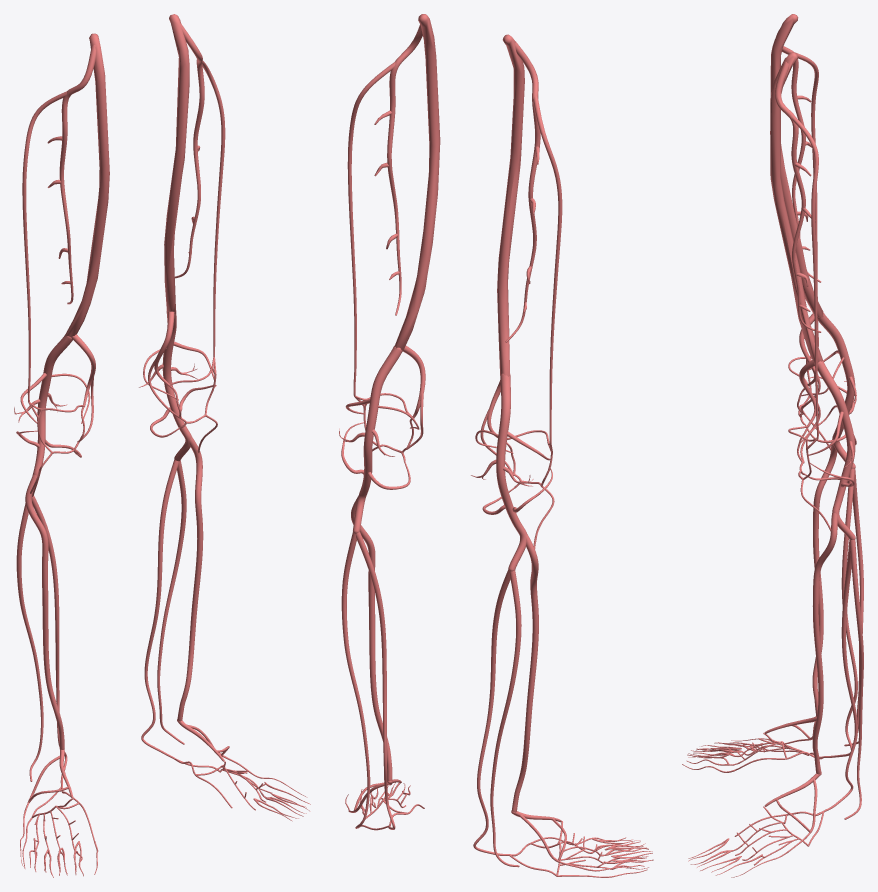
File: arteres-membre-inf.lo.glb
3 renders of one model, left to right at view 1: azimuth 30°, elevation 25°; view 2: azimuth 150°, elevation 25°; view 3: azimuth 270°, elevation 25°, orthographic. The views are drawn at different scales.
Visible parts, largest first — view 1: FJ2074, FJ2143, FJ2065, FJ2130, FJ2087, FJ2203, FJ2057, FJ2093, FJ2094, FJ2197, FJ2170, FJ2172 (+6 smaller); view 2: FJ2074, FJ2143, FJ2130, FJ2170, FJ2086, FJ2065, FJ2087, FJ2197, FJ2057, FJ2172, FJ2094, FJ2063 (+4 smaller); view 3: FJ2074, FJ2143, FJ2065, FJ2086, FJ2094, FJ2130, FJ2063, FJ2093, FJ2087, FJ2172, FJ2170, FJ2197 (+9 smaller).
Part boxes in pixels (x1=…): FJ2074: x1=164, y1=14, x2=189, y2=314; FJ2143: x1=65, y1=33, x2=109, y2=339; FJ2065: x1=177, y1=437, x2=203, y2=721; FJ2130: x1=25, y1=474, x2=64, y2=749; FJ2087: x1=141, y1=460, x2=179, y2=759; FJ2203: x1=59, y1=45, x2=95, y2=304; FJ2057: x1=22, y1=91, x2=66, y2=402; FJ2093: x1=157, y1=460, x2=186, y2=744; FJ2094: x1=175, y1=24, x2=204, y2=278; FJ2197: x1=16, y1=503, x2=43, y2=781; FJ2170: x1=32, y1=334, x2=72, y2=496; FJ2172: x1=32, y1=495, x2=67, y2=786; FJ2074: x1=394, y1=14, x2=440, y2=351; FJ2143: x1=497, y1=34, x2=524, y2=376; FJ2130: x1=511, y1=534, x2=538, y2=812; FJ2170: x1=496, y1=373, x2=526, y2=571; FJ2086: x1=353, y1=346, x2=402, y2=533; FJ2065: x1=351, y1=496, x2=392, y2=780; FJ2087: x1=355, y1=531, x2=395, y2=829; FJ2197: x1=490, y1=570, x2=521, y2=867; FJ2057: x1=533, y1=96, x2=562, y2=444; FJ2172: x1=473, y1=570, x2=510, y2=855; FJ2094: x1=387, y1=25, x2=422, y2=315; FJ2063: x1=347, y1=62, x2=395, y2=396; FJ2074: x1=770, y1=52, x2=823, y2=364; FJ2143: x1=770, y1=14, x2=823, y2=319; FJ2065: x1=812, y1=512, x2=837, y2=774; FJ2086: x1=817, y1=361, x2=855, y2=539; FJ2094: x1=775, y1=61, x2=821, y2=332; FJ2130: x1=812, y1=439, x2=837, y2=716; FJ2063: x1=792, y1=116, x2=818, y2=438; FJ2093: x1=844, y1=539, x2=863, y2=819; FJ2087: x1=823, y1=539, x2=857, y2=811; FJ2172: x1=823, y1=468, x2=857, y2=757; FJ2170: x1=817, y1=312, x2=855, y2=468; FJ2197: x1=844, y1=469, x2=863, y2=746.
Bounding box in the file's own units: 0.3408 × 0.9032 × 0.1912.
